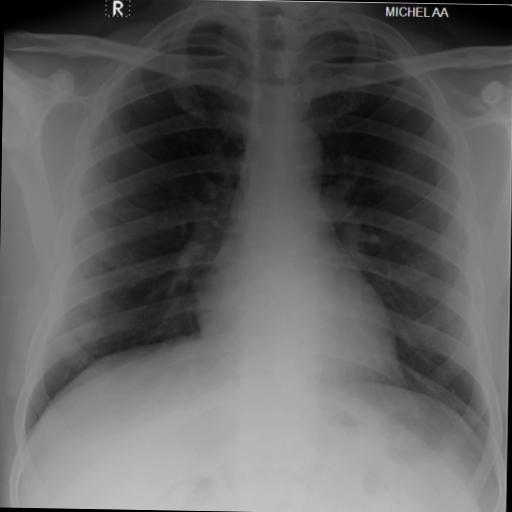normal: (178, 200, 408, 396)
